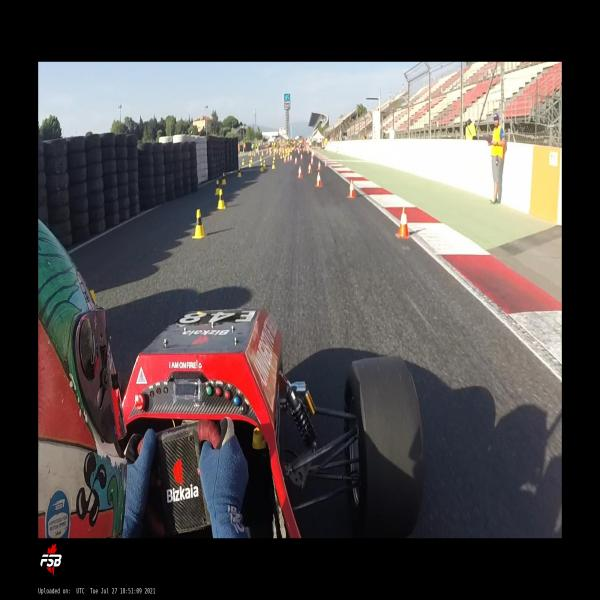orange_cone: (394, 207, 410, 239), (346, 178, 356, 199), (314, 171, 323, 187), (315, 162, 322, 179), (297, 166, 303, 178), (307, 163, 312, 174), (324, 158, 328, 167), (317, 161, 321, 170), (294, 157, 298, 164), (311, 158, 314, 166), (300, 153, 303, 160), (290, 154, 292, 161), (284, 156, 286, 163)
yellow_cone: (192, 209, 206, 239), (217, 189, 226, 209), (215, 180, 221, 195), (221, 172, 227, 185), (238, 168, 242, 177), (260, 163, 264, 171), (272, 160, 275, 170), (263, 160, 266, 168), (249, 160, 252, 167), (242, 159, 245, 165), (259, 155, 262, 161), (273, 153, 275, 161), (280, 152, 282, 159)
